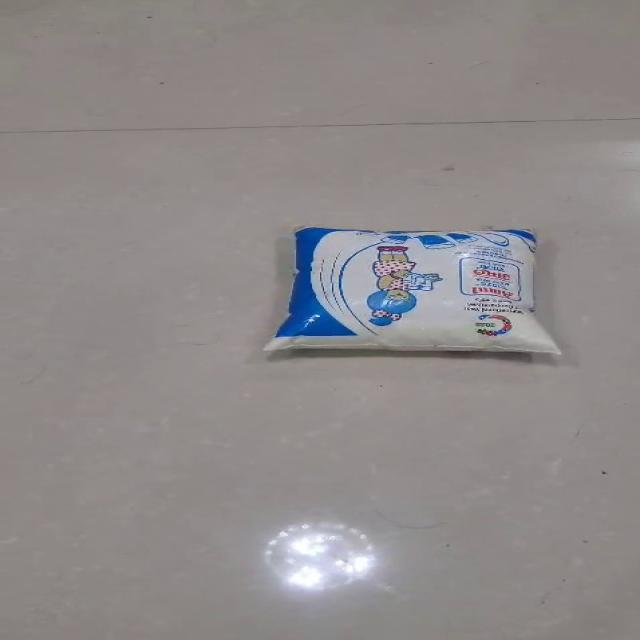plastic: (261, 223, 561, 354)
